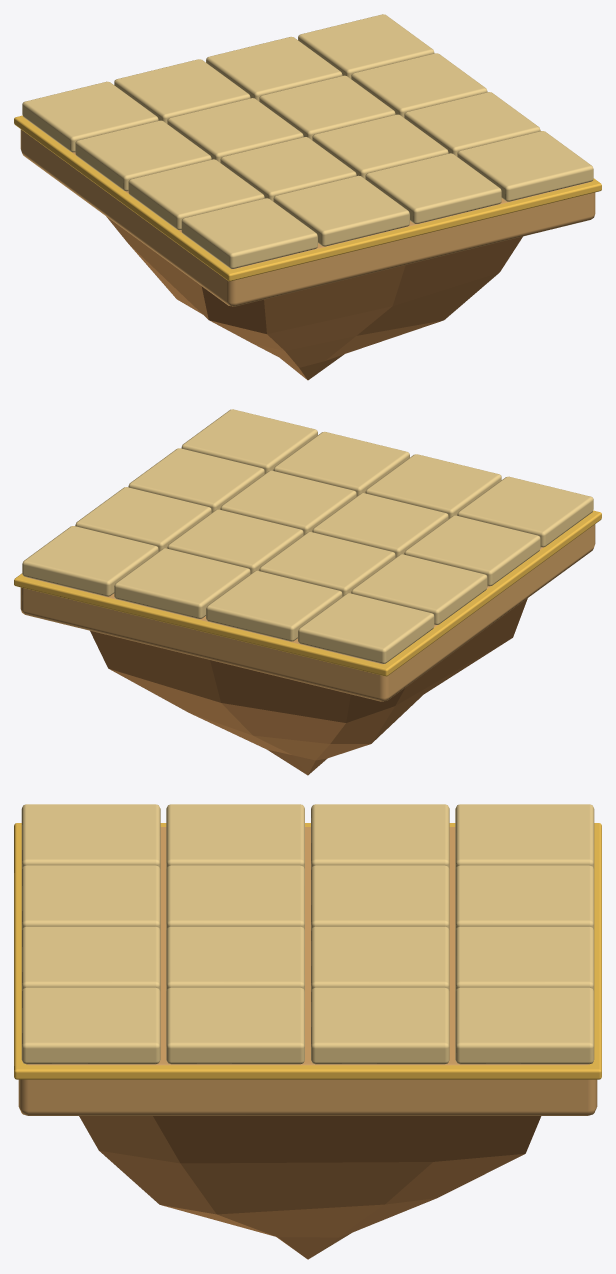
Rendered from PLAT_Ruin_Wide.glb.
3 renders of one model, top to bottom at view 1: azimuth 30°, elevation 25°; view 2: azimuth 150°, elevation 25°; view 3: azimuth 270°, elevation 25°, orthographic. The views are drawn at different scales.
Visible parts, largest first — view 1: Tiles, Underside, Slab, Trim; view 2: Tiles, Underside, Slab, Trim; view 3: Tiles, Underside, Slab, Trim.
Boxes of the visible parts, left/top/right/bottom form: Tiles: left=22, top=14, right=593, bottom=268; Underside: left=106, top=216, right=522, bottom=380; Slab: left=20, top=129, right=595, bottom=306; Trim: left=14, top=115, right=601, bottom=281; Tiles: left=22, top=409, right=593, bottom=663; Underside: left=90, top=598, right=527, bottom=775; Slab: left=20, top=524, right=595, bottom=701; Trim: left=14, top=510, right=601, bottom=676; Tiles: left=21, top=804, right=594, bottom=1064; Underside: left=79, top=1116, right=541, bottom=1259; Slab: left=18, top=827, right=597, bottom=1115; Trim: left=14, top=823, right=601, bottom=1079.
Bounding box in the file's own units: 6.1 × 3.85 × 6.1.
